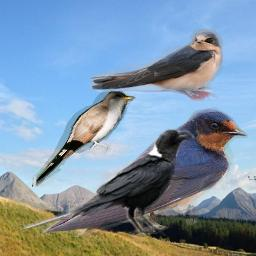Crow: (67, 125, 195, 236)
Cuckoo: (32, 91, 136, 187)
Swallow: (20, 107, 248, 237), (89, 28, 223, 101)
